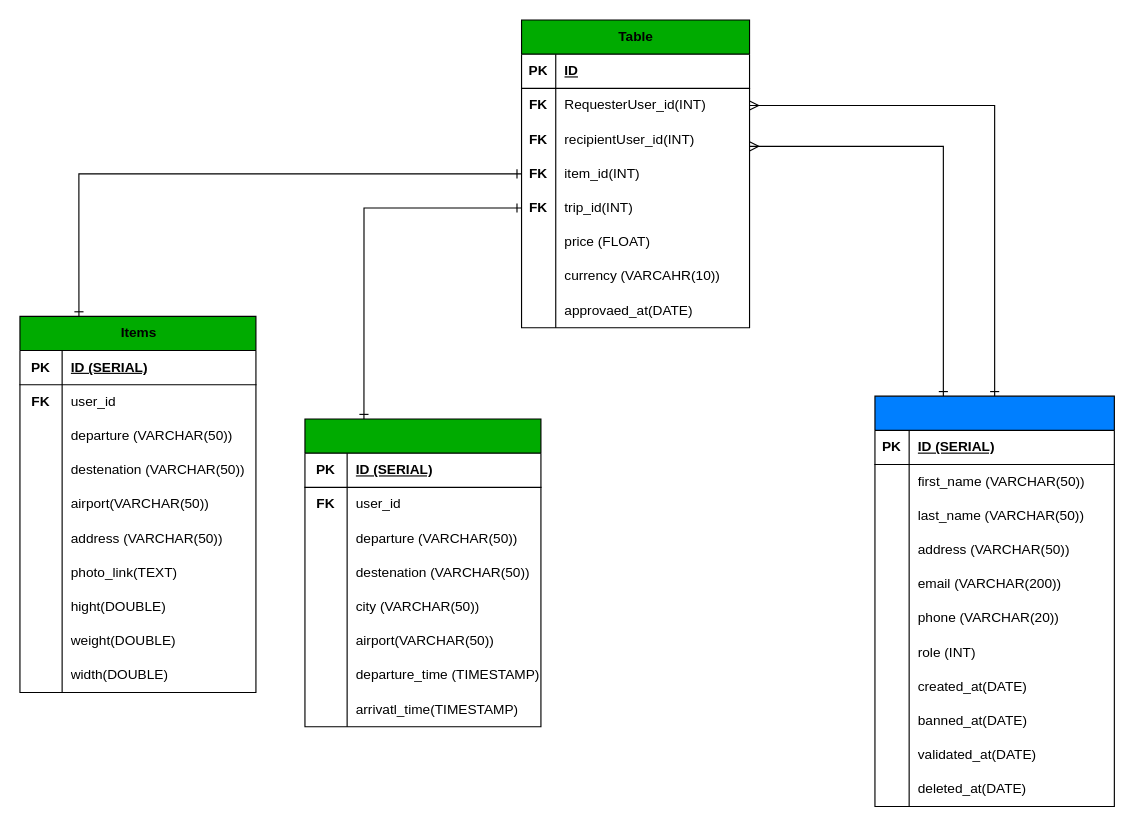
Some shapes in this 1134 by 827 pixel diagram are drawn without their labels. Each missing label, with the box of its shape:
Persons: (874, 395, 1114, 807)
Trips: (304, 418, 541, 727)
